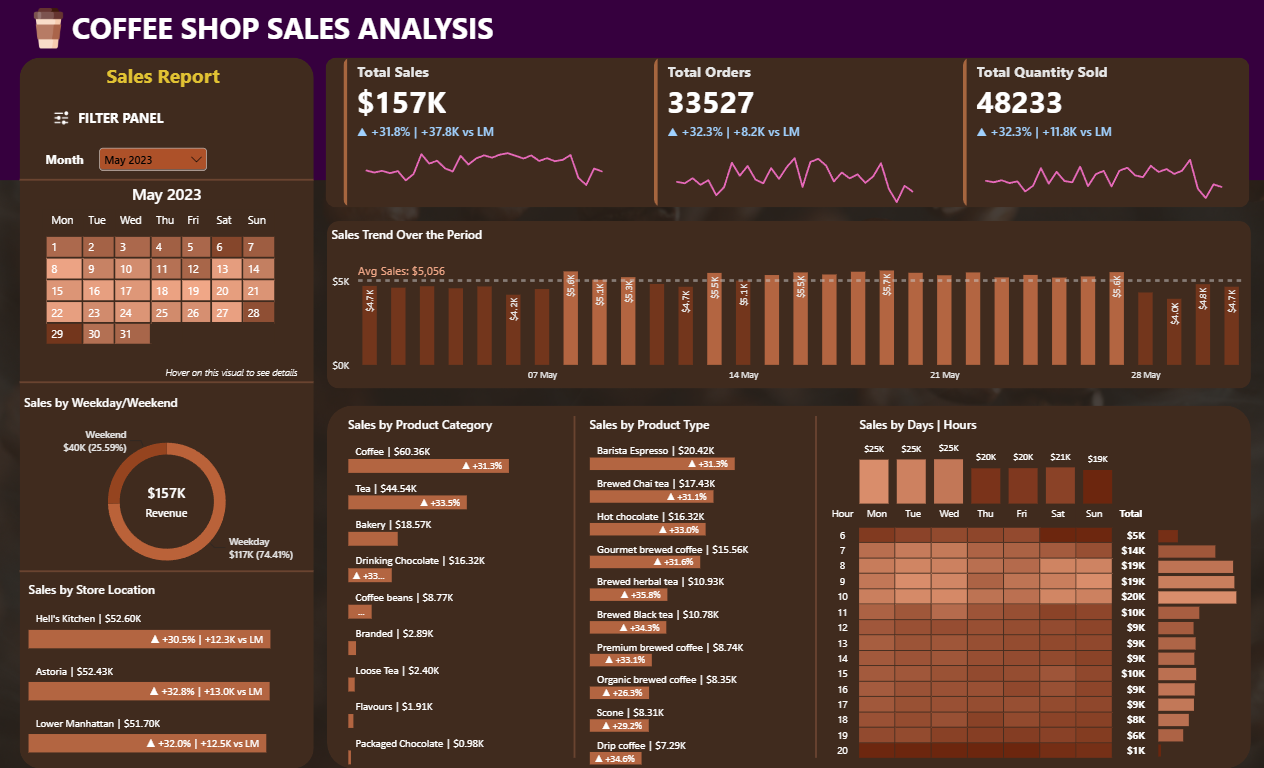

What the dashboard file says about the page in this screenshot:
{"tool":"powerbi","page":{"name":"Page 1","canvas":[1400,850],"ordinal":0},"visuals":[{"type":"shape","box":[0,0,1400,200],"z":0},{"type":"shape","box":[359.4,64.6,1020.2,165.6],"z":1000},{"type":"cardVisual","fields":{"Data":["Measures Table.Total Sales"]},"box":[379.3,64.6,300,165],"z":1000,"group":"g1"},{"type":"cardVisual","fields":{"Data":["Measures Table.Total Orders"]},"box":[721.4,64.6,300,165],"z":1000,"group":"g2"},{"type":"cardVisual","fields":{"Data":["Measures Table.Total Quantity Sold"]},"box":[1063.3,64.6,300,165],"z":1000,"group":"g3"},{"type":"shape","box":[21.5,64.6,325,785],"z":2000},{"type":"slicer","fields":{"Values":["Date Table.Month Year"]},"box":[105,158.6,129.3,39.3],"z":3000},{"type":"textbox","box":[80,10,341.2,44.7],"z":4000},{"type":"group","id":"g1","title":"Group 1","box":[379.3,64.6,300,166.2],"z":5000},{"type":"lineChart","fields":{"Category":["Date Table.Date.Variation.Date Hierarchy.Year","Date Table.Date.Variation.Date Hierarchy.Quarter","Date Table.Date.Variation.Date Hierarchy.Month","Date Table.Date.Variation.Date Hierarchy.Day"],"Y":["Measures Table.Total Sales"]},"box":[379.3,130.8,300,100],"z":5001,"group":"g1"},{"type":"lineChart","fields":{"Category":["Date Table.Date.Variation.Date Hierarchy.Year","Date Table.Date.Variation.Date Hierarchy.Quarter","Date Table.Date.Variation.Date Hierarchy.Month","Date Table.Date.Variation.Date Hierarchy.Day"],"Y":["Measures Table.Total Orders"]},"box":[721.4,130.8,300,100],"z":5001,"group":"g2"},{"type":"lineChart","fields":{"Category":["Date Table.Date.Variation.Date Hierarchy.Year","Date Table.Date.Variation.Date Hierarchy.Quarter","Date Table.Date.Variation.Date Hierarchy.Month","Date Table.Date.Variation.Date Hierarchy.Day"],"Y":["Measures Table.Total Quantity Sold"]},"box":[1063.3,130.8,300,100],"z":5001,"group":"g3"},{"type":"group","id":"g2","title":"Group 1","box":[721.4,64.6,299.8,165.6],"z":6000},{"type":"group","id":"g3","title":"Group 1","box":[1063.3,64.6,299.8,165.6],"z":7000},{"type":"pivotTable","fields":{"Rows":["Date Table.Week Num"],"Columns":["Date Table.Day Name"],"Values":["Min(Date Table.Day)"]},"box":[31.5,218.3,304.7,202.1],"z":8000},{"type":"cardVisual","fields":{"Data":["Min(Date Table.Month Year)"]},"box":[128.6,200.3,110,28.6],"z":9000},{"type":"cardVisual","fields":{"Data":["Measures Table.Foot Note"]},"box":[165.6,402.2,180,18.6],"z":10000},{"type":"shape","box":[21.5,408.8,324.6,28.2],"z":11000},{"type":"shape","box":[21.5,185.2,324.6,28.2],"z":12000},{"type":"donutChart","title":"Sales by Weekday/Weekend","fields":{"Category":["Date Table.Weekday / Weekend"],"Y":["Measures Table.Total Sales"]},"box":[21.5,430.6,324.6,214],"z":13000},{"type":"shape","box":[21.5,617.7,324.6,28.2],"z":14000},{"type":"clusteredBarChart","title":"Sales by Store Location","fields":{"Y":["Measures Table.Placeholder","Measures Table.Total Sales"],"Category":["Transactions.store_location"]},"box":[21.5,632.7,324.6,217],"z":15000},{"type":"shape","box":[361,245.1,1020.2,185],"z":16000},{"type":"columnChart","title":"Sales Trend Over the Period","fields":{"Category":["Transactions.transaction_date"],"Y":["Measures Table.Total Sales"]},"box":[361,245.1,1020.2,185.5],"z":17000},{"type":"shape","box":[361,448.8,1020.2,400.8],"z":18000},{"type":"clusteredBarChart","title":"Sales by Product Category","fields":{"Y":["Measures Table.Placeholder","Measures Table.Total Sales"],"Category":["Transactions.product_category"]},"box":[379.3,460.4,250,390],"z":19000},{"type":"shape","box":[622.7,460.4,23.2,377.6],"z":20000},{"type":"clusteredBarChart","title":"Sales by Product Type","fields":{"Y":["Measures Table.Placeholder","Measures Table.Total Sales"],"Category":["Transactions.product_type"]},"box":[645.9,460.4,250,390],"z":21000},{"type":"shape","box":[889.4,460.4,23.2,377.6],"z":22000},{"type":"pivotTable","fields":{"Rows":["Transactions.Hour"],"Columns":["Date Table.Day Name"],"Values":["Measures Table.Total Sales"]},"box":[912.5,556.7,369.3,286.5],"z":23000},{"type":"barChart","fields":{"Category":["Transactions.Hour"],"Y":["Measures Table.Total Sales"]},"box":[1273.6,573,97.7,268.3],"z":24000},{"type":"columnChart","title":"Sales by Days | Hours","fields":{"Y":["Measures Table.Total Sales"],"Category":["Date Table.Day Name"]},"box":[949,460.4,279.9,97.7],"z":25000},{"type":"textbox","box":[37.9,167.9,66.2,19.9],"z":26000},{"type":"textbox","box":[117.1,69.9,132.5,30.1],"z":27000},{"type":"textbox","box":[75.8,120.9,114.4,21.9],"z":28000},{"type":"image","box":[54.3,123.2,25.9,17],"z":29000},{"type":"image","box":[31.6,7,44.2,51.2],"z":30000}]}

Visuals, with their boxes in screenshot pixels (x1, y1, x2, y2), scaled from the page's 1400x850 canvas onto the 1264x768 screenshot:
shape: 0/0/1263/181
shape: 324/58/1246/208
cardVisual - Measures Table.Total Sales: 342/58/613/207
cardVisual - Measures Table.Total Orders: 651/58/922/207
cardVisual - Measures Table.Total Quantity Sold: 960/58/1231/207
shape: 19/58/313/767
slicer - Date Table.Month Year: 95/143/212/179
textbox: 72/9/380/49
"Group 1" group: 342/58/613/209
lineChart - Date Table.Date.Variation.Date Hierarchy.Year x Date Table.Date.Variation.Date Hierarchy.Quarter: 342/118/613/209
lineChart - Date Table.Date.Variation.Date Hierarchy.Year x Date Table.Date.Variation.Date Hierarchy.Quarter: 651/118/922/209
lineChart - Date Table.Date.Variation.Date Hierarchy.Year x Date Table.Date.Variation.Date Hierarchy.Quarter: 960/118/1231/209
"Group 1" group: 651/58/922/208
"Group 1" group: 960/58/1231/208
pivotTable - Date Table.Week Num x Date Table.Day Name: 28/197/304/380
cardVisual - Min(Date Table.Month Year): 116/181/215/207
cardVisual - Measures Table.Foot Note: 150/363/312/380
shape: 19/369/312/395
shape: 19/167/312/193
"Sales by Weekday/Weekend" donutChart: 19/389/312/582
shape: 19/558/312/584
"Sales by Store Location" clusteredBarChart: 19/572/312/767
shape: 326/221/1247/389
"Sales Trend Over the Period" columnChart: 326/221/1247/389
shape: 326/406/1247/767
"Sales by Product Category" clusteredBarChart: 342/416/568/767
shape: 562/416/583/757
"Sales by Product Type" clusteredBarChart: 583/416/809/767
shape: 803/416/824/757
pivotTable - Transactions.Hour x Date Table.Day Name: 824/503/1157/762
barChart - Transactions.Hour x Measures Table.Total Sales: 1150/518/1238/760
"Sales by Days | Hours" columnChart: 857/416/1110/504
textbox: 34/152/94/170
textbox: 106/63/225/90
textbox: 68/109/172/129
image: 49/111/72/127
image: 29/6/68/53
